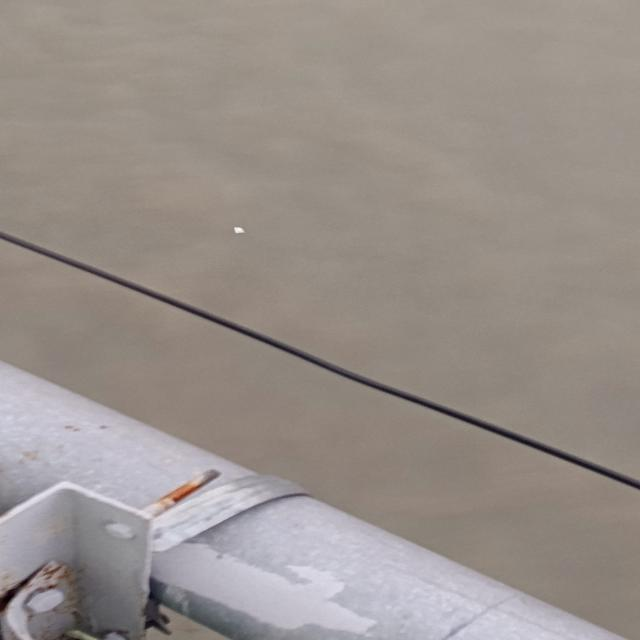Plastic: (227, 223, 253, 239)
